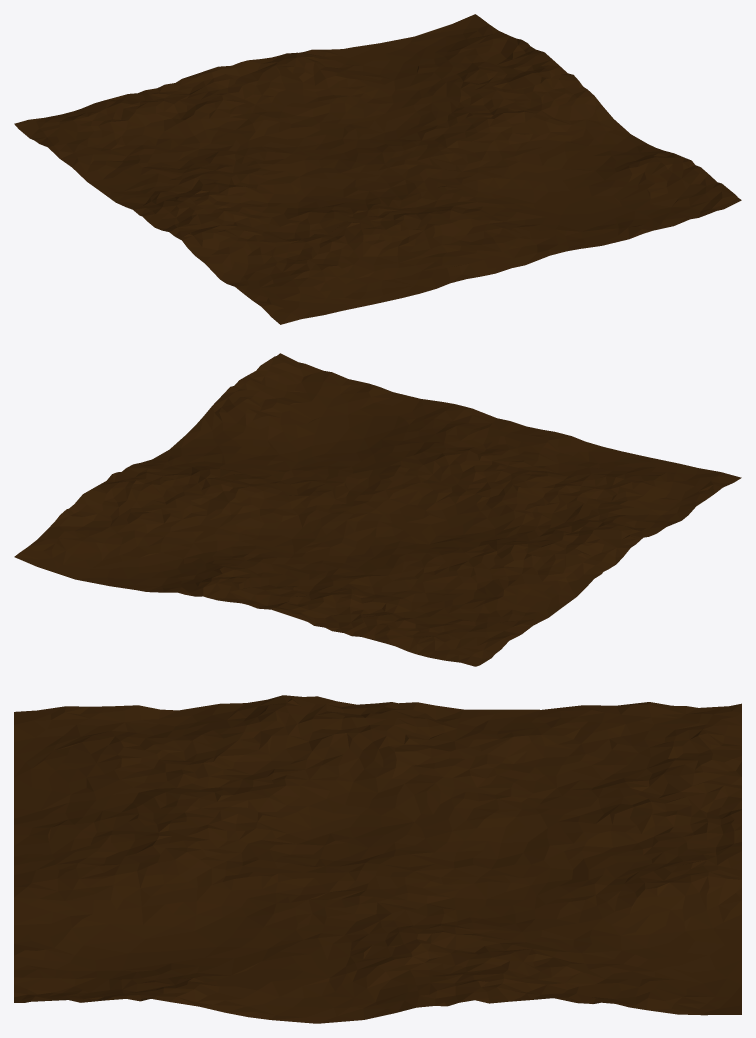
The model's file is dirt.fbx.
The picture shows the model from 3 angles, top to bottom: view 1: azimuth 30°, elevation 25°; view 2: azimuth 150°, elevation 25°; view 3: azimuth 270°, elevation 25°; orthographic projection. The views are drawn at different scales.
Parts seen in each view (by area): view 1: Landscape; view 2: Landscape; view 3: Landscape.
Boxes of the visible parts, x1,y1,x2,y2 form: Landscape: [14, 14, 741, 324]; Landscape: [14, 353, 741, 666]; Landscape: [14, 695, 741, 1023].
Size of the model in its own units: 200 by 9.13 by 200.
